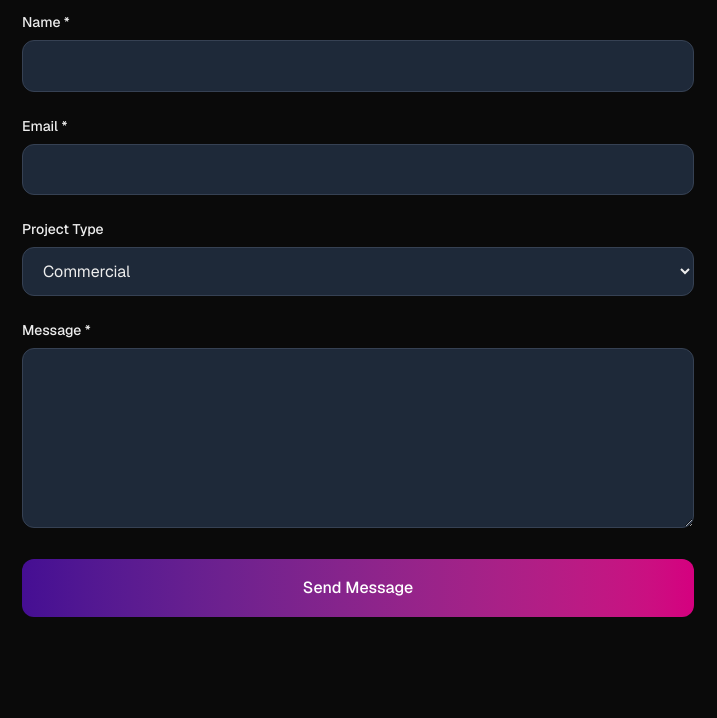
it: ContactForm › shows success message on successful submission
Type "John Doe" into the field labelled "Name *" at (358, 66), box x1=22 y1=40 x2=694 y2=92
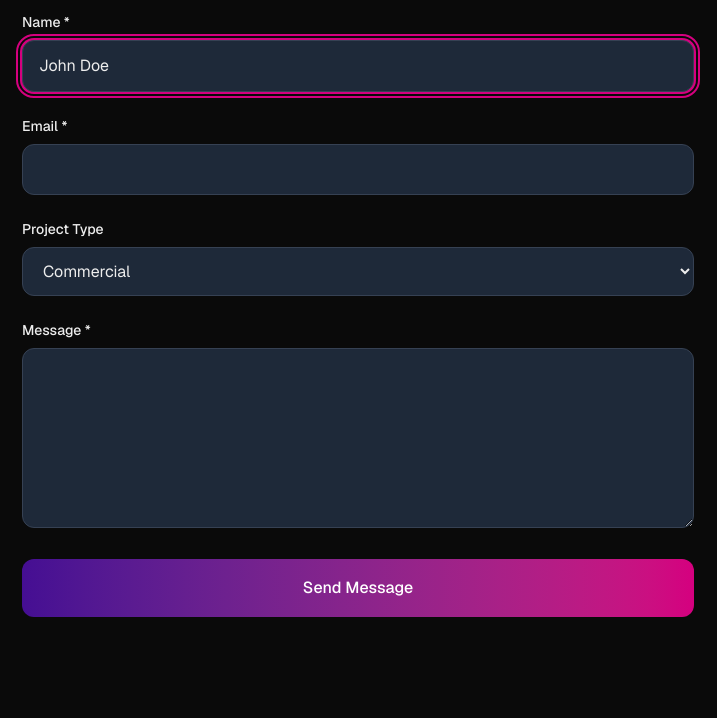
Type "john@example.com" into the field labelled "Email *" at (358, 169), box x1=22 y1=144 x2=694 y2=195
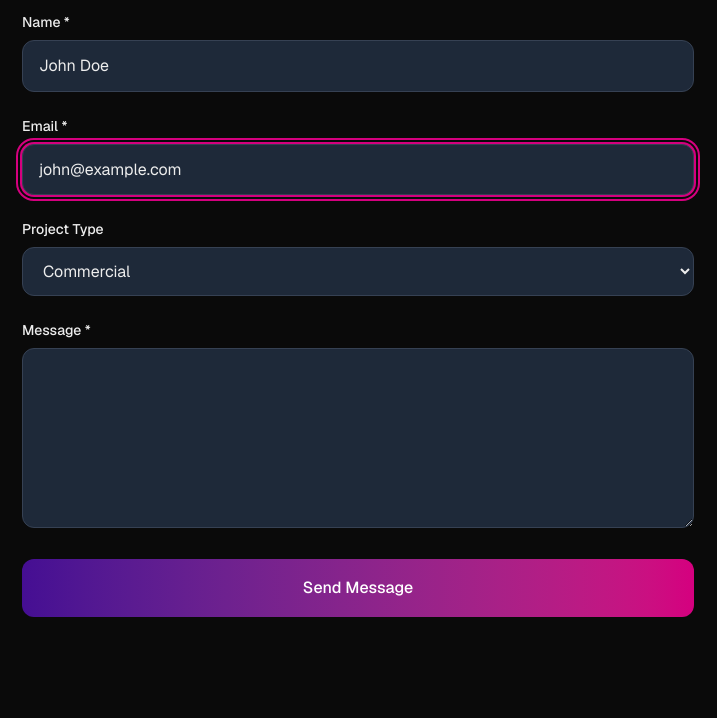
Type "This is a test message" into the text box labelled "Message *" at (358, 438), box x1=22 y1=348 x2=694 y2=528
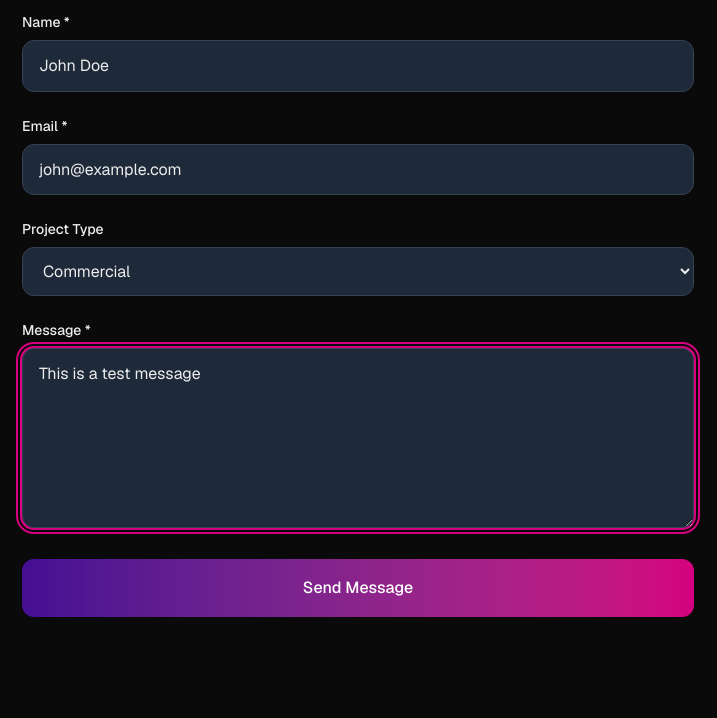
Click the button "Send Message" at (358, 588), box x1=22 y1=559 x2=694 y2=617
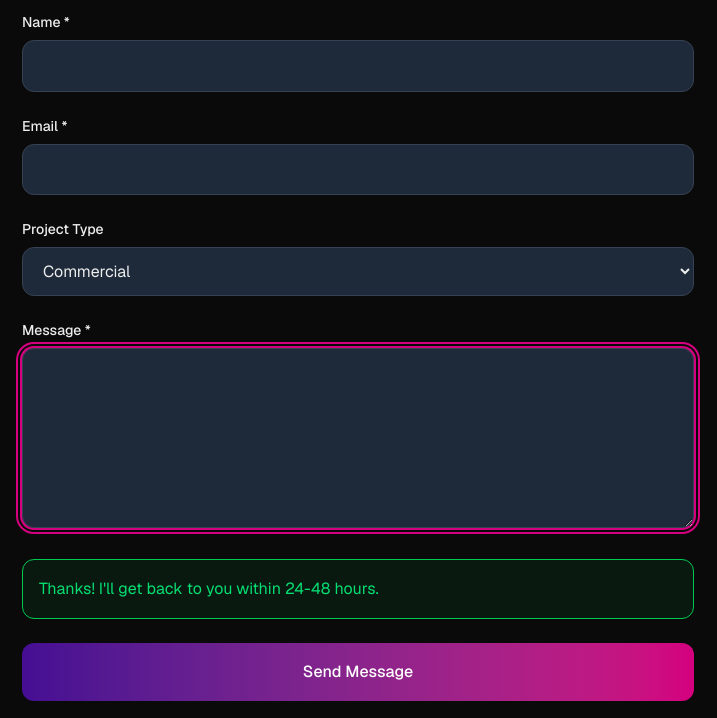
Expected: the text "Thanks! I'll get back to you within 24-48 hours." is shown, x1=22 y1=559 x2=694 y2=619
